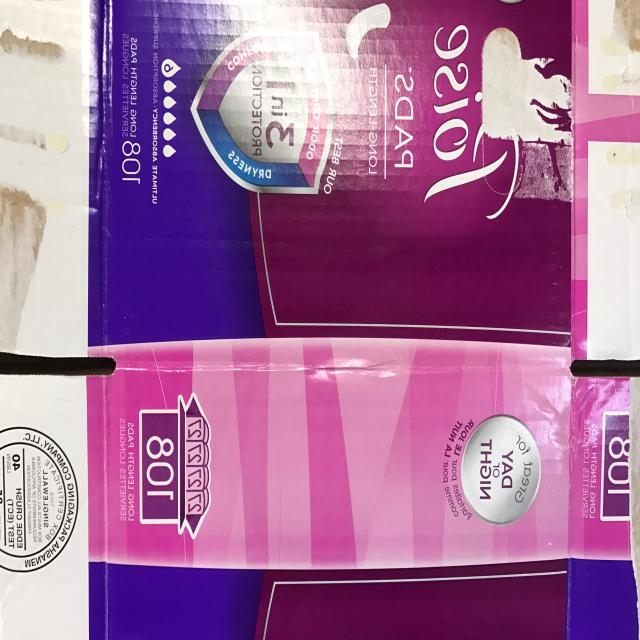cardboard: (87, 336, 572, 572)
